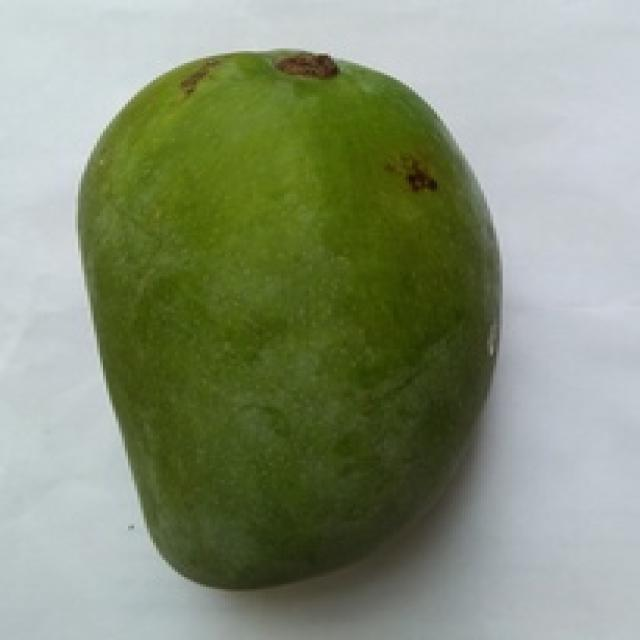Mango: (78, 51, 493, 587)
